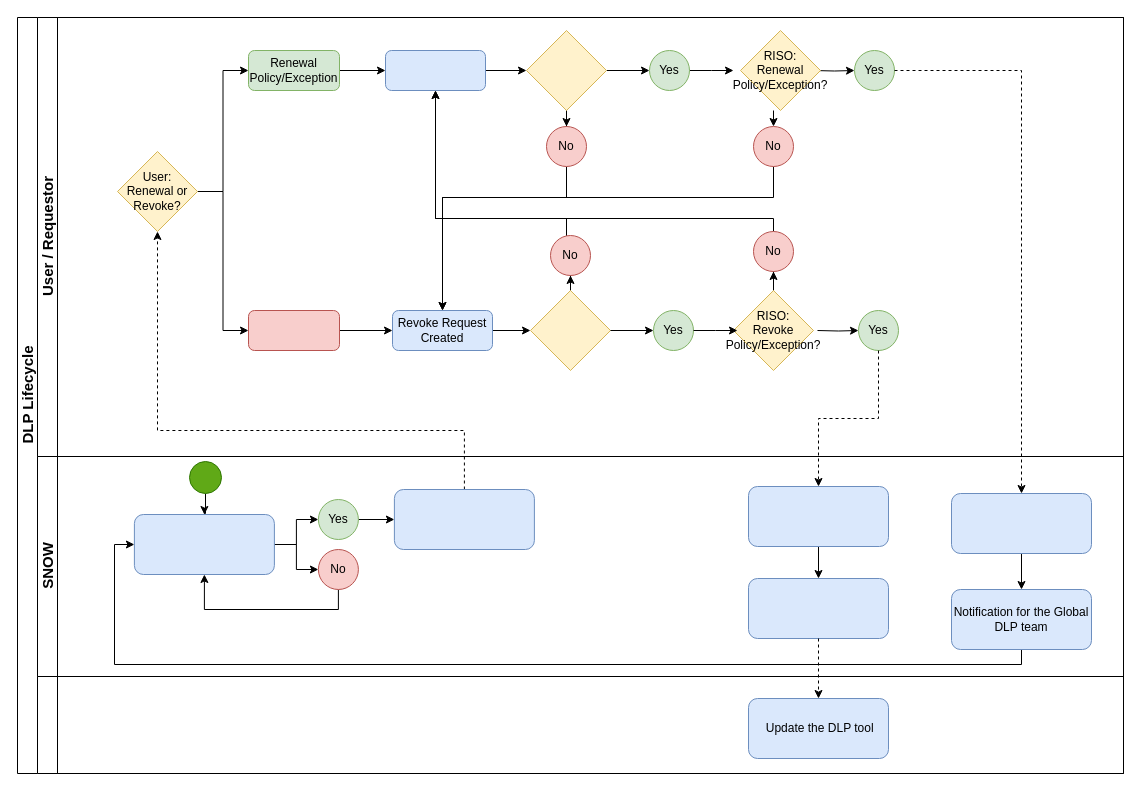
Image size: 1141x791. Some labels were removed from this diagram. Here are the shapes that lost their labels. From the top down, the box of each, then its label:
(384, 50, 486, 90): Renewal Request Created
(526, 30, 606, 110): User LM: Renewal Policy/Exception?
(248, 310, 340, 350): Revoke Policy/Exception
(530, 290, 610, 370): User LM: Revoke Policy/Exception?
(393, 488, 534, 550): Automated Emails to the Policy / Exception owner, LM and/or RISO
(748, 486, 888, 546): Change Policy / Exception status to Disabled on the Inventory
(950, 492, 1092, 554): Renewal the Policy / Exception Revision Date
(133, 514, 274, 574): Policy / Exception creation date triggers the lifecycle process?
(748, 578, 888, 638): Automated task raised to the DLP team
(36, 676, 1124, 774): DLP Team
